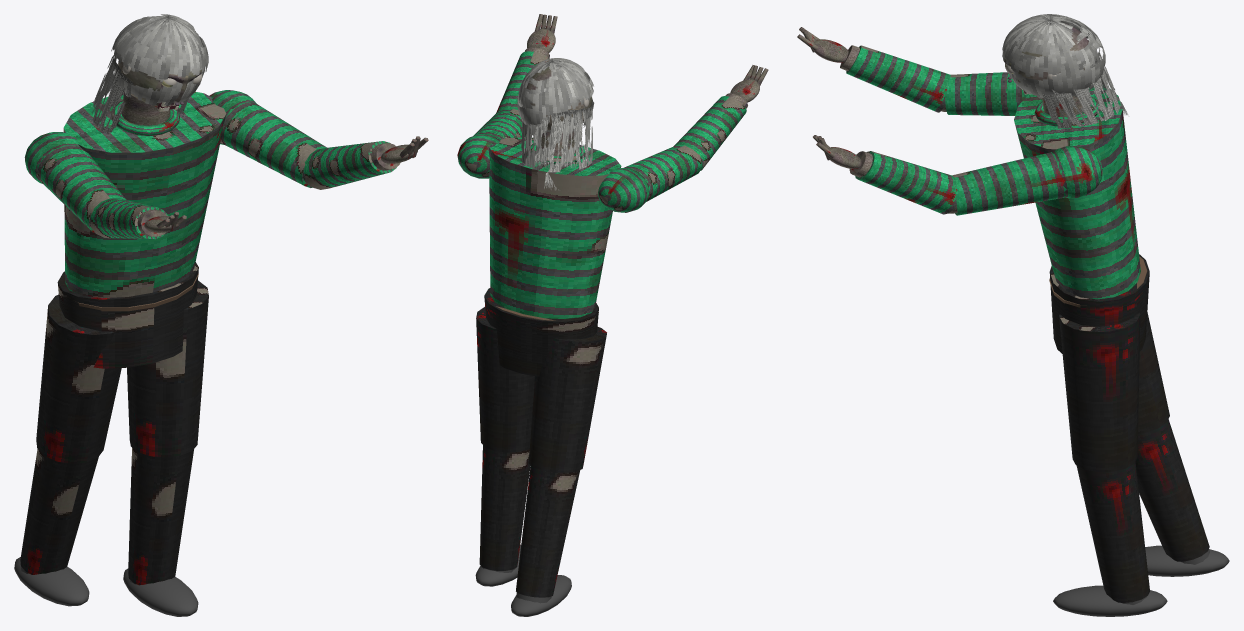
File: Zombie_114.glb
3 renders of one model, left to right at view 1: azimuth 30°, elevation 25°; view 2: azimuth 150°, elevation 25°; view 3: azimuth 270°, elevation 25°, orthographic. The views are drawn at different scales.
Parts seen in each view (by area): view 1: Zombie_114, object 43, object 12, object 44, object 4, object 18, object 54; view 2: Zombie_114, object 4, object 44, object 43, object 12, object 51, object 50, object 52, object 53, object 13, object 18, object 49 (+1 smaller); view 3: Zombie_114, object 4, object 12, object 43, object 44, object 5.
Part boxes in pixels (box(x1,y1,x2,y2)): Zombie_114: box(14, 90, 326, 616); object 43: box(114, 14, 208, 77); object 12: box(302, 141, 396, 189); object 44: box(111, 14, 204, 105); object 4: box(89, 198, 168, 239); object 18: box(118, 55, 201, 107); object 54: box(99, 71, 133, 134); Zombie_114: box(457, 108, 702, 616); object 4: box(673, 96, 746, 170); object 44: box(517, 61, 594, 134); object 43: box(519, 58, 593, 108); object 12: box(496, 51, 549, 112); object 51: box(544, 111, 571, 190); object 50: box(534, 113, 554, 168); object 52: box(560, 110, 581, 167); object 53: box(572, 108, 588, 169); object 13: box(527, 29, 555, 52); object 18: box(526, 66, 592, 130); object 49: box(525, 119, 541, 174); Zombie_114: box(945, 72, 1229, 616); object 4: box(846, 45, 950, 112); object 12: box(855, 151, 957, 214); object 43: box(1002, 14, 1099, 75); object 44: box(1006, 15, 1105, 98); object 5: box(812, 39, 848, 62).
Size of the model in its own units: 0.8039 by 1.72 by 1.16.
Materials: 16 (6 with a texture image).
